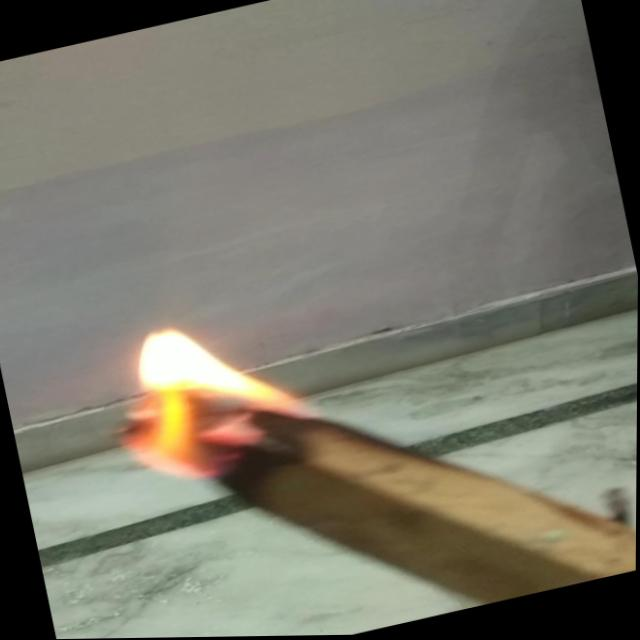fire: (101, 299, 291, 485)
